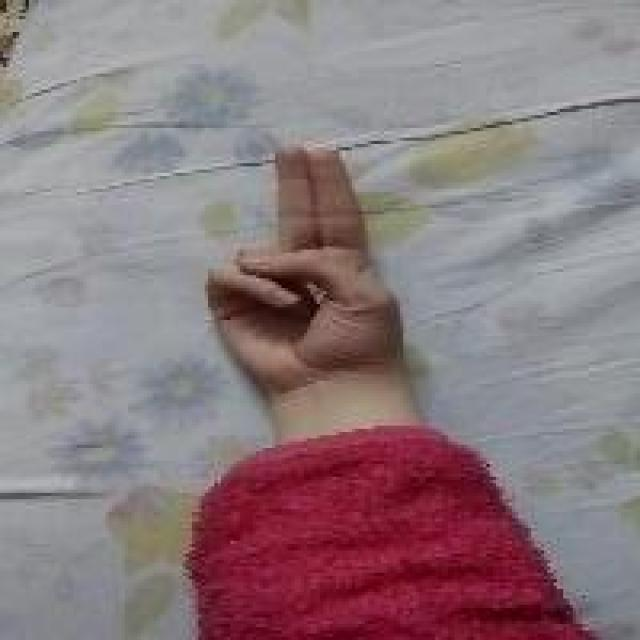U: (200, 140, 411, 378)
